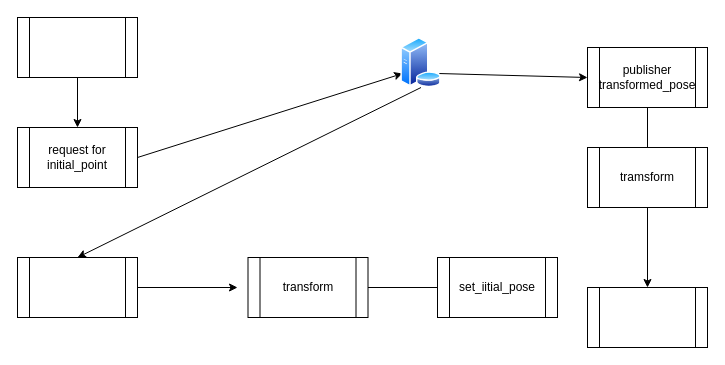
Some shapes in this 725 by 365 pixel diagram are drawn without their labels. The shapes that lost their labels are listed below. From the top down, each one's box as (x1, y1, x2, y2) in pixels, then its label:
(16, 16, 138, 78): run_car
(16, 256, 138, 318): get initial point
(586, 286, 708, 348): simulation
